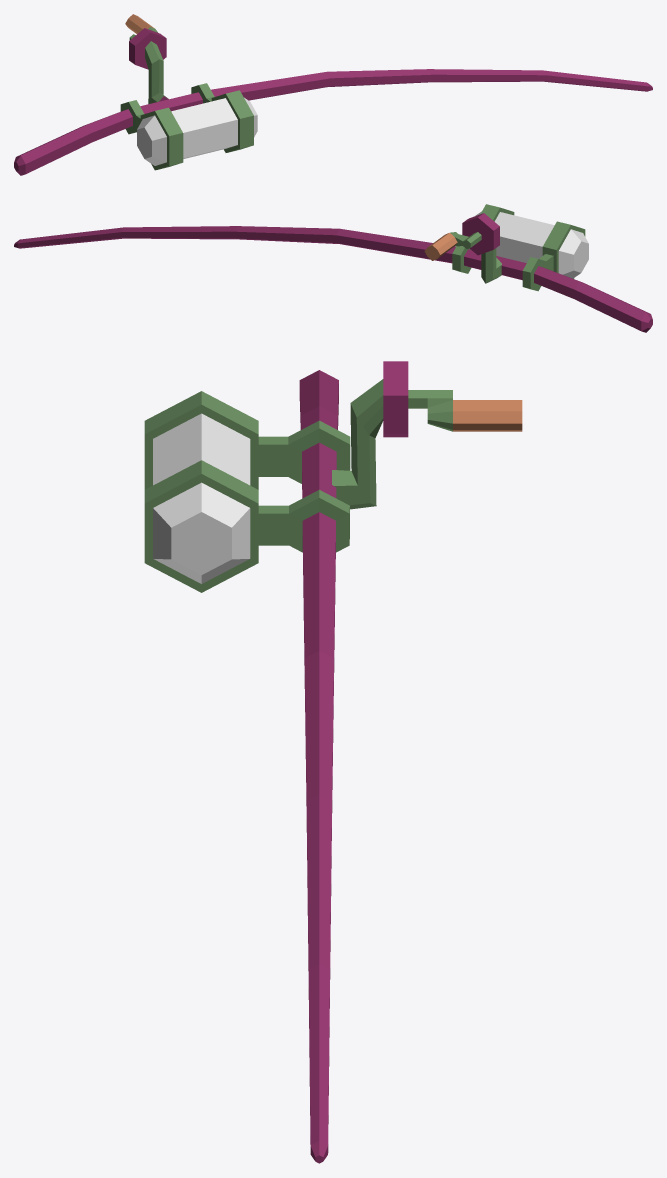
The picture shows the model from 3 angles, top to bottom: view 1: azimuth 30°, elevation 25°; view 2: azimuth 150°, elevation 25°; view 3: azimuth 270°, elevation 25°; orthographic projection. The views are drawn at different scales.
Parts seen in each view (by area): view 1: 柱体, 柱体.002, 柱体.003, 柱体.004; view 2: 柱体, 柱体.002, 柱体.004, 柱体.003; view 3: 柱体, 柱体.002, 柱体.004, 柱体.003.
Boxes of the visible parts, <box> form: 柱体: <box>14,69,652,175</box>; 柱体.002: <box>137,97,257,165</box>; 柱体.003: <box>140,90,253,170</box>; 柱体.004: <box>125,14,168,104</box>; 柱体: <box>14,226,652,332</box>; 柱体.002: <box>475,211,588,278</box>; 柱体.004: <box>424,213,501,283</box>; 柱体.003: <box>480,204,585,278</box>; 柱体: <box>258,370,350,1163</box>; 柱体.002: <box>153,413,250,583</box>; 柱体.004: <box>332,361,522,509</box>; 柱体.003: <box>144,391,258,592</box>.
Size of the model in its own units: 175 by 43.31 by 45.03.
